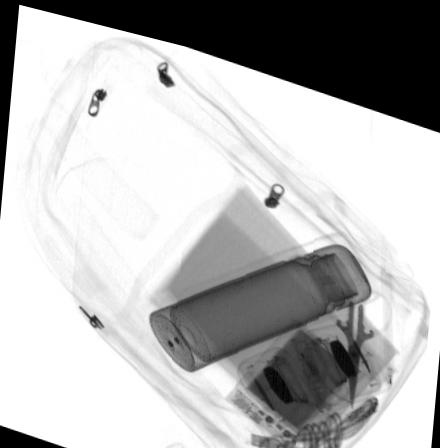Powerbank: (221, 302, 360, 437)
Scissors: (320, 258, 393, 395)
